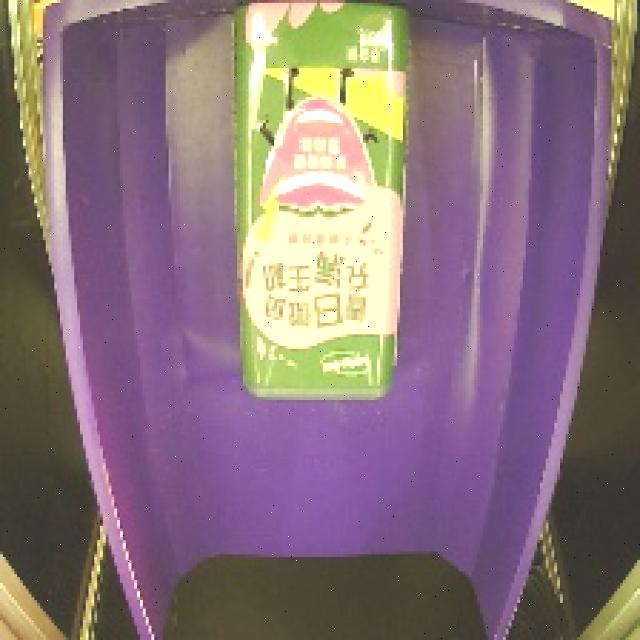metal: (217, 0, 429, 417)
